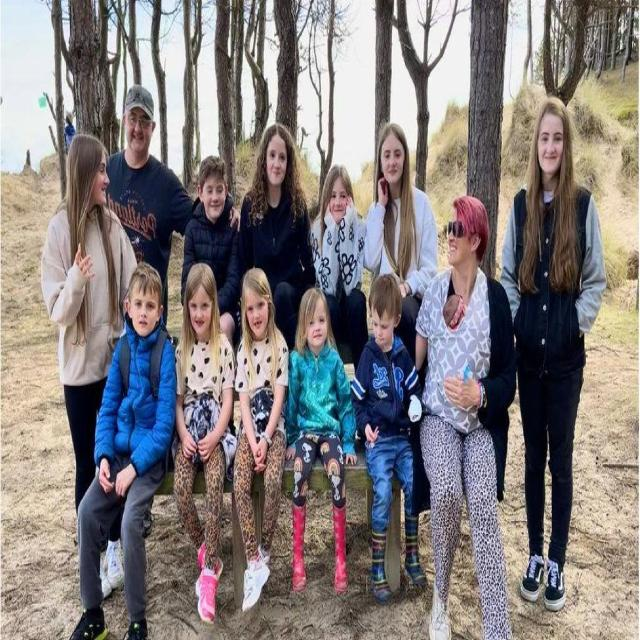adult: (501, 96, 606, 610), (414, 198, 514, 639), (40, 136, 135, 596), (106, 84, 194, 363), (366, 121, 434, 322)
child: (70, 260, 174, 640), (352, 277, 424, 598), (174, 262, 237, 624), (288, 288, 356, 590), (235, 267, 287, 613), (242, 123, 312, 300), (181, 154, 241, 345), (310, 164, 365, 366)
